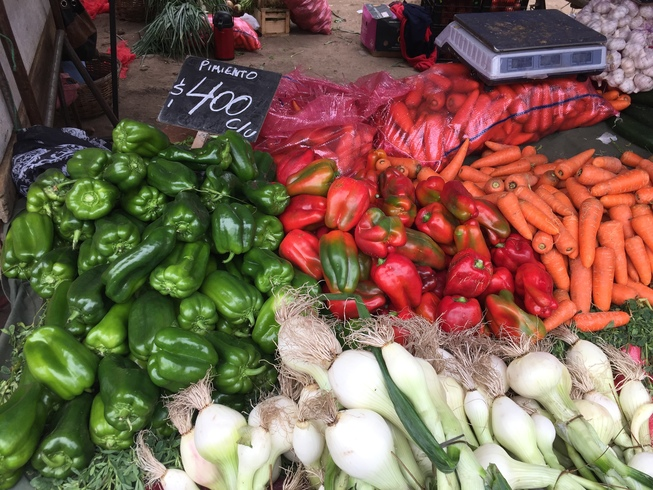precio: (168, 52, 283, 156)
